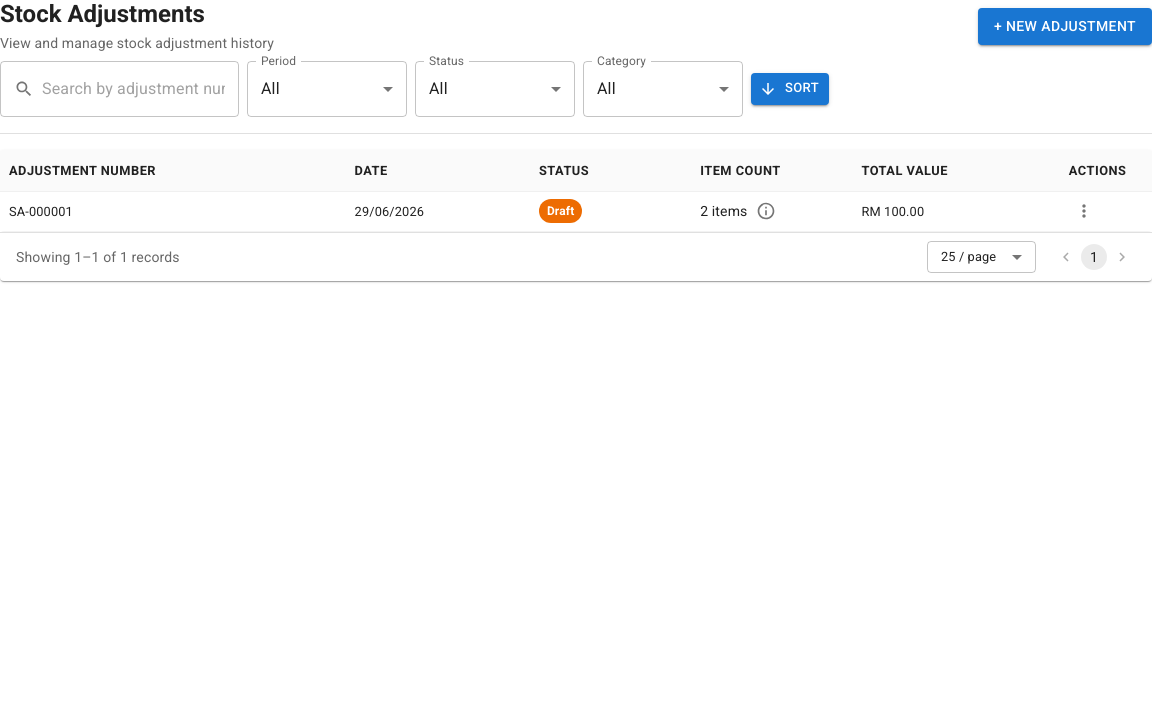
it: completes a draft adjustment and shows a success toast
Click the button named "row actions".
click(1084, 211)  # box [1069, 196, 1099, 226]
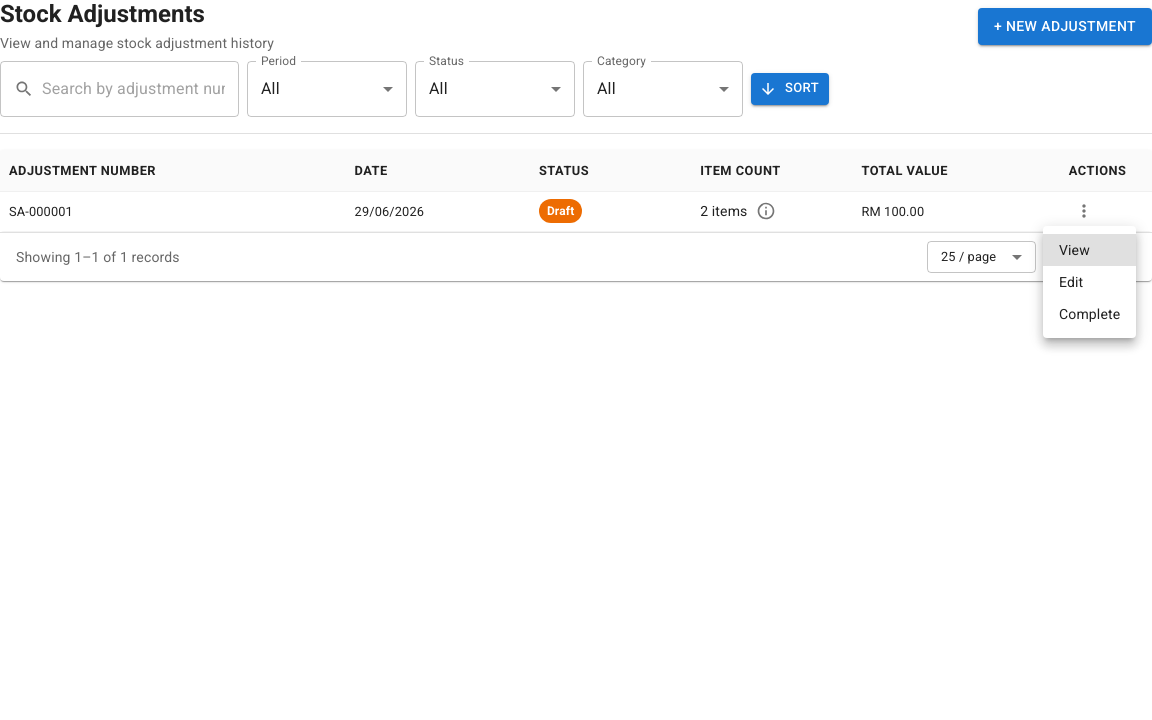
Click the menu item "Complete".
click(1090, 314)  # box [1059, 306, 1120, 322]
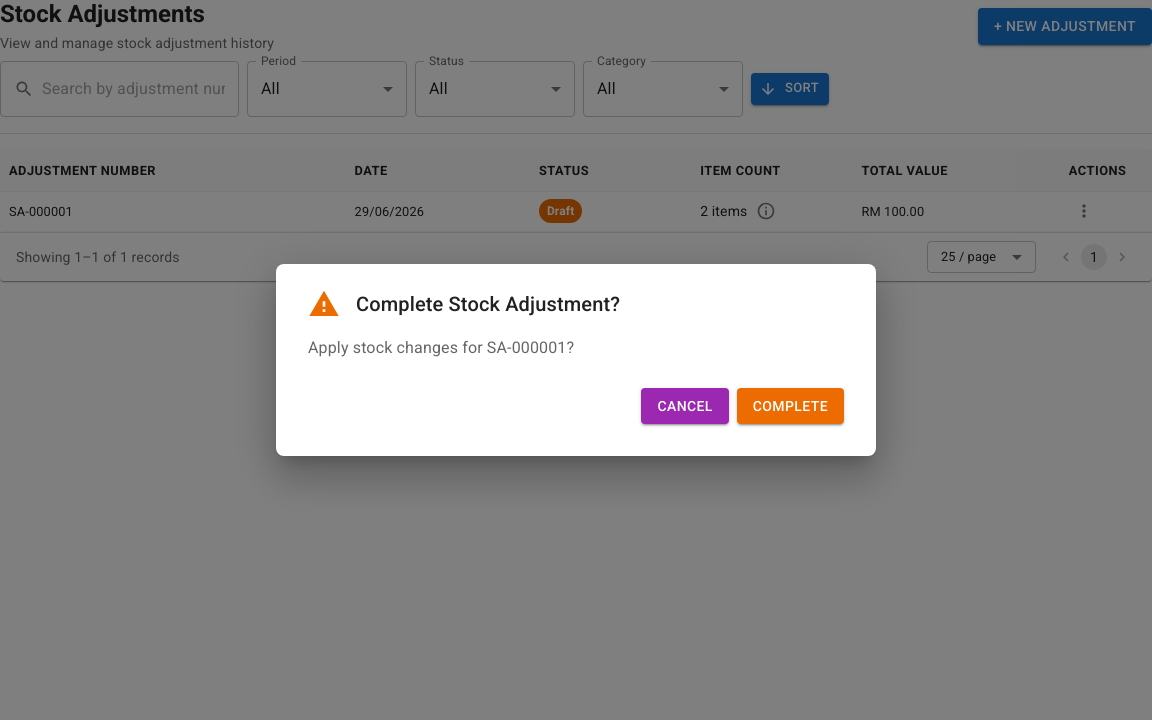
Check: the text "Complete Stock Adjustment?" is shown, box [356, 288, 620, 320]
Click the button "Complete".
click(790, 406)  # box [737, 388, 844, 424]
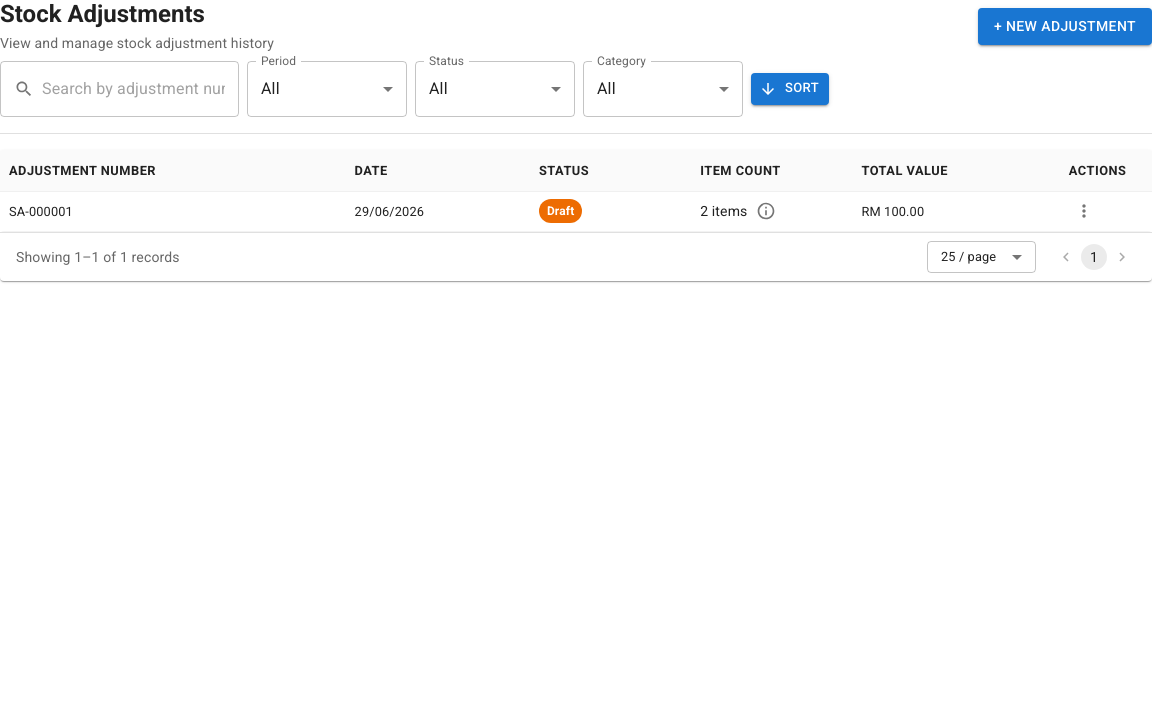
Check: the text "Complete Stock Adjustment?" is gone
